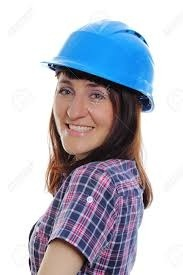helmet: (42, 19, 155, 113)
person with partial safety: (29, 17, 157, 274)
